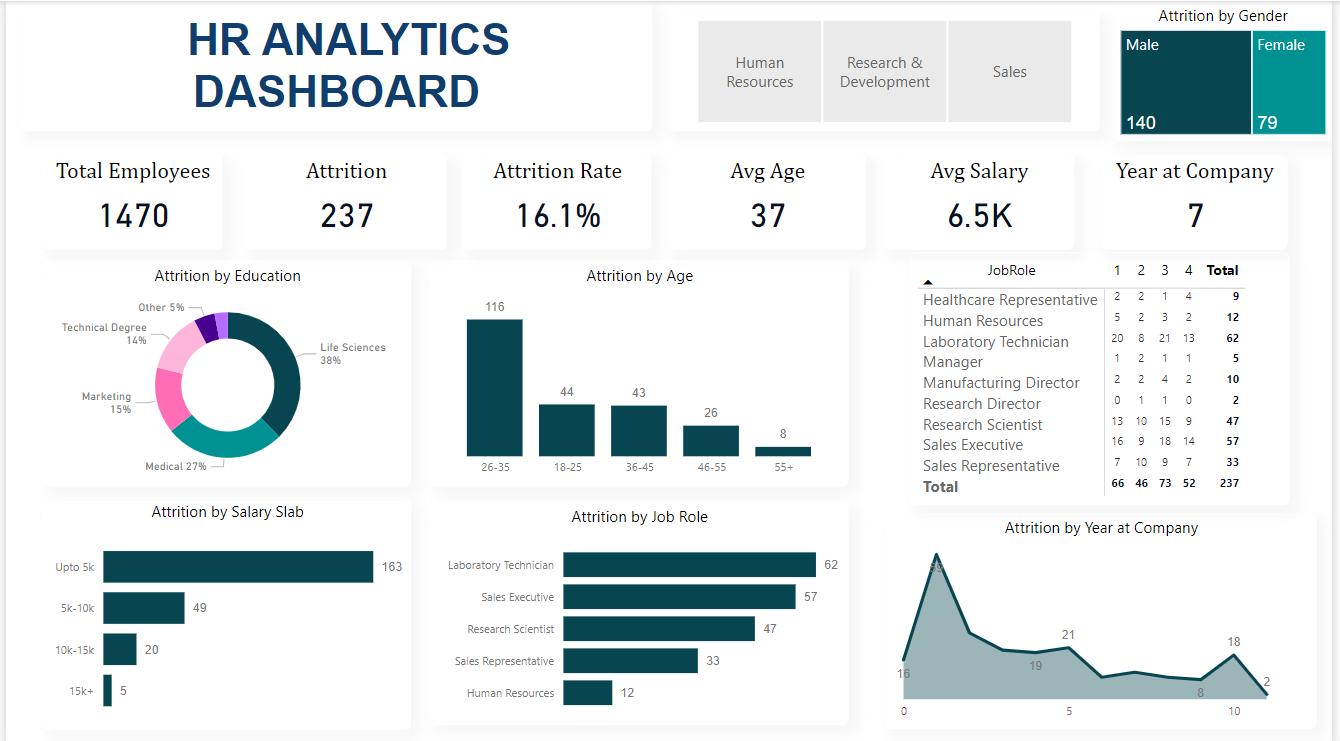

The dashboard page shown, as its layout file describes it:
{"tool":"powerbi","page":{"name":"Page 1","canvas":[1280,720],"ordinal":0},"visuals":[{"type":"card","title":"Total Employees","fields":{"Values":["CountNonNull(HR_Analytics.EmpID)"]},"box":[35,147.5,173.8,92.5],"z":0},{"type":"card","title":"Attrition","fields":{"Values":["Sum(HR_Analytics.Attritioncount)"]},"box":[230,147.5,195,92.5],"z":1000},{"type":"card","title":"Attrition Rate","fields":{"Values":["HR_Analytics.Attritionrate"]},"box":[440,147.5,182.5,92.5],"z":2000},{"type":"card","title":"Avg Age","fields":{"Values":["Avg(HR_Analytics.Age)"]},"box":[640,147.5,190,92.5],"z":3000},{"type":"card","title":"Avg Salary","fields":{"Values":["Avg(HR_Analytics.MonthlyIncome)"]},"box":[847.5,147.5,183.8,92.5],"z":4000},{"type":"card","title":"Year at Company","fields":{"Values":["Avg(HR_Analytics.YearsAtCompany)"]},"box":[1056.2,147.5,180,92.5],"z":5000},{"type":"donutChart","title":" Attrition by Education","fields":{"Category":["HR_Analytics.EducationField"],"Y":["Sum(HR_Analytics.Attritioncount)"]},"box":[35,251.2,356.2,217.5],"z":6000},{"type":"columnChart","title":" Attrition by Age","fields":{"Category":["HR_Analytics.AgeGroup"],"Y":["Sum(HR_Analytics.Attritioncount)"]},"box":[408.8,251.2,403.8,217.5],"z":7000},{"type":"pivotTable","fields":{"Rows":["HR_Analytics.JobRole"],"Columns":["HR_Analytics.JobSatisfaction"],"Values":["Sum(HR_Analytics.Attritioncount)"]},"box":[872.6,242.9,366.7,244],"z":9000},{"type":"clusteredBarChart","title":" Attrition by Salary Slab","fields":{"Category":["HR_Analytics.SalarySlab"],"Y":["Sum(HR_Analytics.Attritioncount)"]},"box":[35,478.8,356.2,225],"z":10000},{"type":"clusteredBarChart","title":" Attrition by Job Role","fields":{"Category":["HR_Analytics.JobRole"],"Y":["Sum(HR_Analytics.Attritioncount)"]},"box":[408.8,483.8,403.8,215],"z":11000},{"type":"areaChart","title":" Attrition by Year at Company","fields":{"Y":["Sum(HR_Analytics.Attritioncount)"],"Category":["HR_Analytics.YearsAtCompany"]},"box":[847.6,495.2,416.7,208.3],"z":12000},{"type":"treemap","title":" Attrition by Gender","fields":{"Values":["Sum(HR_Analytics.Attritioncount)"],"Group":["HR_Analytics.Gender"]},"box":[1067.5,0,212.5,135],"z":13000},{"type":"slicer","fields":{"Values":["HR_Analytics.Department"]},"box":[640,10,415.7,115.7],"z":14000},{"type":"textbox","box":[12.9,0,610,125.7],"z":15000}]}

Visuals, with their boxes in screenshot pixels (x1, y1, x2, y2), scaled from the page's 1280x720 canvas onto the 1340x741 screenshot:
"Total Employees" card: box(37, 152, 219, 247)
"Attrition" card: box(241, 152, 445, 247)
"Attrition Rate" card: box(461, 152, 652, 247)
"Avg Age" card: box(670, 152, 869, 247)
"Avg Salary" card: box(887, 152, 1080, 247)
"Year at Company" card: box(1106, 152, 1294, 247)
" Attrition by Education" donutChart: box(37, 259, 410, 482)
" Attrition by Age" columnChart: box(428, 259, 851, 482)
pivotTable - HR_Analytics.JobRole x HR_Analytics.JobSatisfaction: box(914, 250, 1297, 501)
" Attrition by Salary Slab" clusteredBarChart: box(37, 493, 410, 724)
" Attrition by Job Role" clusteredBarChart: box(428, 498, 851, 719)
" Attrition by Year at Company" areaChart: box(887, 510, 1324, 724)
" Attrition by Gender" treemap: box(1118, 0, 1339, 139)
slicer - HR_Analytics.Department: box(670, 10, 1105, 129)
textbox: box(14, 0, 652, 129)
